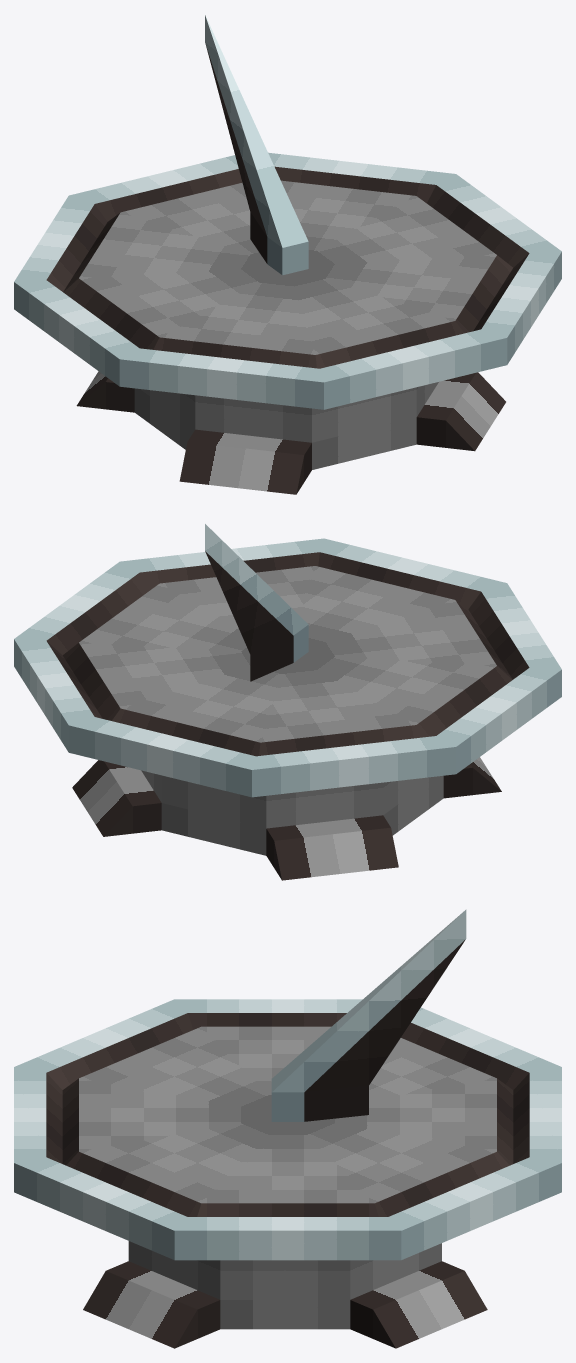
Rendered from boss_trophy_fey.obj.
3 renders of one model, top to bottom at view 1: azimuth 30°, elevation 25°; view 2: azimuth 150°, elevation 25°; view 3: azimuth 270°, elevation 25°, orthographic. The views are drawn at different scales.
Visible parts, largest first — view 1: BOSS_TROPHY_FEY_Plane; view 2: BOSS_TROPHY_FEY_Plane; view 3: BOSS_TROPHY_FEY_Plane.
Part boxes in pixels (box(x1,y1,x2,y2)): BOSS_TROPHY_FEY_Plane: box(14, 15, 561, 494); BOSS_TROPHY_FEY_Plane: box(14, 524, 561, 880); BOSS_TROPHY_FEY_Plane: box(14, 909, 561, 1348).
Size of the model in its own units: 1.06 by 0.75 by 1.06.
